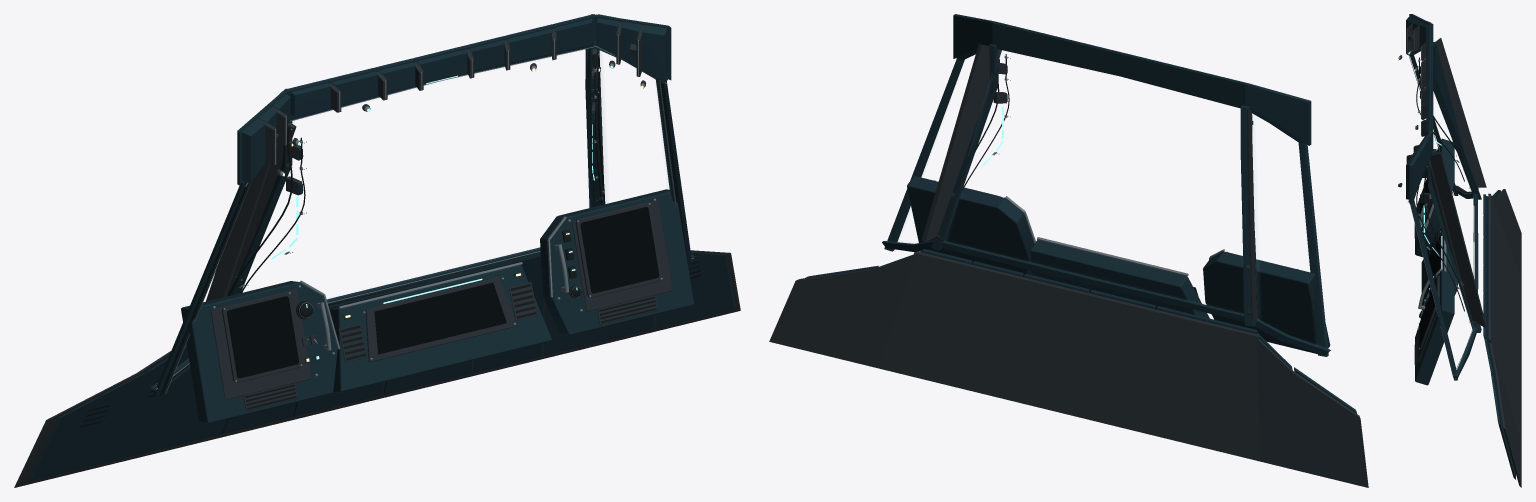
Rendered from cabina-envolvente.glb.
The picture shows the model from 3 angles, left to right: view 1: azimuth 30°, elevation 25°; view 2: azimuth 150°, elevation 25°; view 3: azimuth 270°, elevation 25°; orthographic projection. The views are drawn at different scales.
Visible parts, largest first — view 1: Consola central, Cuerpo de consola, Cuerpo de consola.001, Hueco de respuestas, Faldón lateral L panel 1, Pantalla.001, Pantalla, Espina profunda L, Faldón lateral L panel 0, Faldón lateral R panel 1, Panel de instrumentos, Tapa central (+27 smaller); view 2: Faldón frontal cierre continuo, Faldón lateral L cierre continuo, Faldón lateral R cierre continuo, Cuerpo de consola, Cuerpo de consola.001, Corona frontal, Consola central, Espina profunda R, Alféizar frontal casco, Corona lateral L, Cierre exterior L casco, Pilar R (+6 smaller); view 3: Faldón frontal cierre continuo, Espina profunda R, Cuerpo de consola.001, Pilar L, Espina profunda L, Faldón lateral R cierre continuo, Faldón lateral L cierre continuo, Cuerpo de consola, Cierre exterior R casco, Corona lateral R, Pilar R, Corona frontal (+19 smaller).
Boxes of the visible parts, x1,y1,x2,y2 form: Consola central: (330, 264, 551, 392); Cuerpo de consola: (181, 281, 337, 423); Cuerpo de consola.001: (540, 189, 694, 335); Hueco de respuestas: (374, 282, 506, 354); Faldón lateral L panel 1: (27, 372, 146, 481); Pantalla.001: (580, 207, 659, 293); Pantalla: (227, 296, 298, 378); Espina profunda L: (206, 123, 296, 301); Faldón lateral L panel 0: (108, 345, 188, 461); Faldón lateral R panel 1: (656, 252, 735, 327); Panel de instrumentos: (210, 289, 311, 399); Tapa central: (365, 277, 516, 362); Faldón frontal cierre continuo: (878, 251, 1260, 461); Faldón lateral L cierre continuo: (1256, 339, 1368, 487); Faldón lateral R cierre continuo: (769, 255, 915, 367); Cuerpo de consola: (1203, 251, 1330, 353); Cuerpo de consola.001: (907, 176, 1034, 277); Corona frontal: (992, 21, 1249, 106); Consola central: (1030, 240, 1209, 322); Espina profunda R: (921, 44, 1001, 241); Alféizar frontal casco: (941, 241, 1244, 321); Corona lateral L: (1245, 83, 1311, 145); Cierre exterior L casco: (1298, 143, 1328, 356); Pilar R: (931, 44, 998, 250); Faldón frontal cierre continuo: (1488, 193, 1521, 441); Espina profunda R: (1427, 152, 1486, 328); Cuerpo de consola.001: (1415, 270, 1454, 385); Pilar L: (1433, 42, 1481, 199); Espina profunda L: (1435, 38, 1486, 187); Faldón lateral R cierre continuo: (1489, 342, 1521, 487); Faldón lateral L cierre continuo: (1491, 189, 1521, 278); Cuerpo de consola: (1415, 138, 1454, 257); Cierre exterior R casco: (1410, 200, 1457, 380); Corona lateral R: (1409, 131, 1433, 203); Pilar R: (1428, 149, 1481, 332); Corona frontal: (1429, 23, 1433, 151).
Size of the model in its own units: 2.93 by 1.52 by 0.6023.
